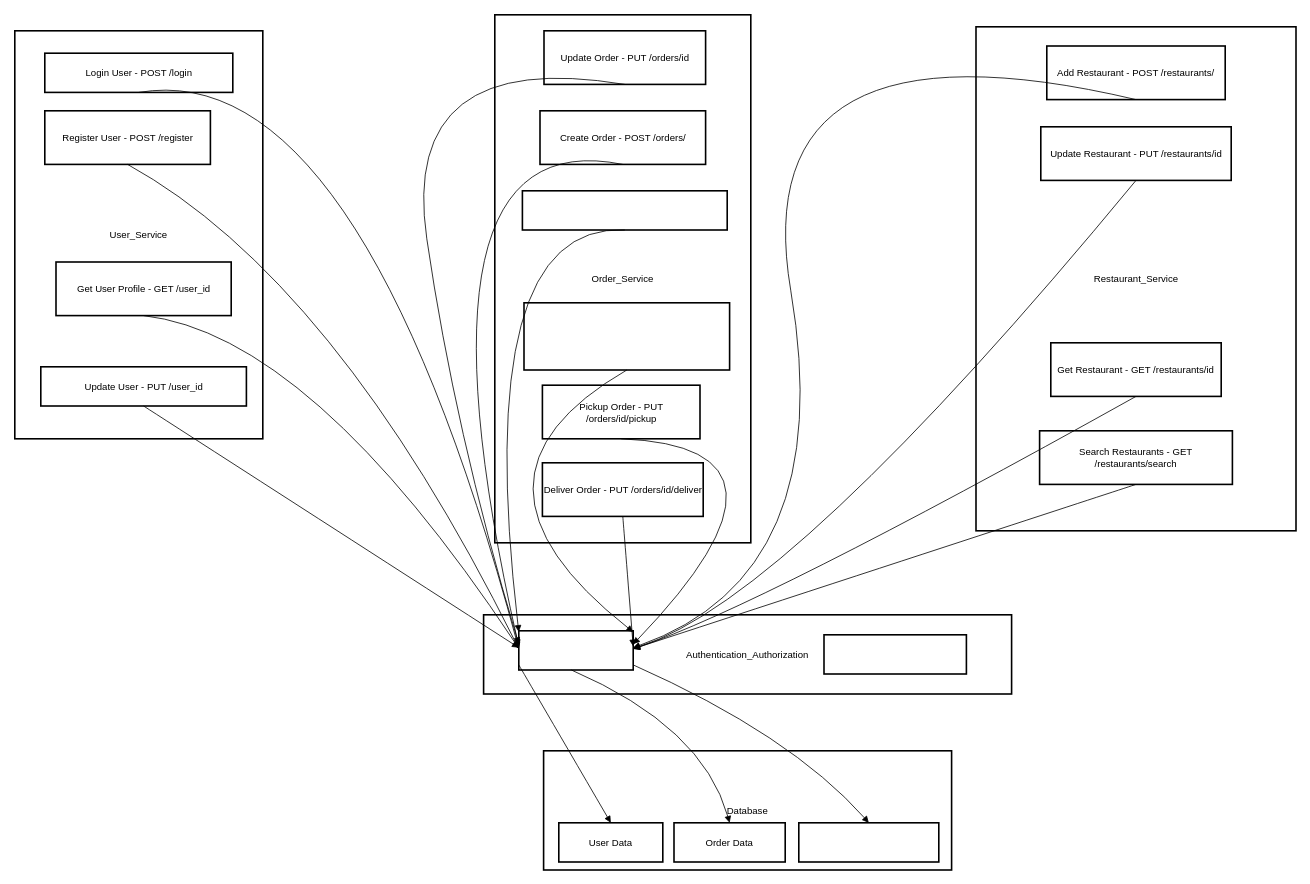
The diagram is 1310 pixels wide and 884 high, and some of its shapes have lost their labels. The shapes that lost their labels are listed below. From the top down, each one's centre as x and y in pixels, then its label:
At point (624, 210): "Get Order - GET /orders/id".
At point (626, 336): "Order Status - GET /orders/user/user_id/status".
At point (576, 650): "JWT Tokens".
At point (895, 654): "Role Middleware".
At point (868, 842): "Restaurant Data".
